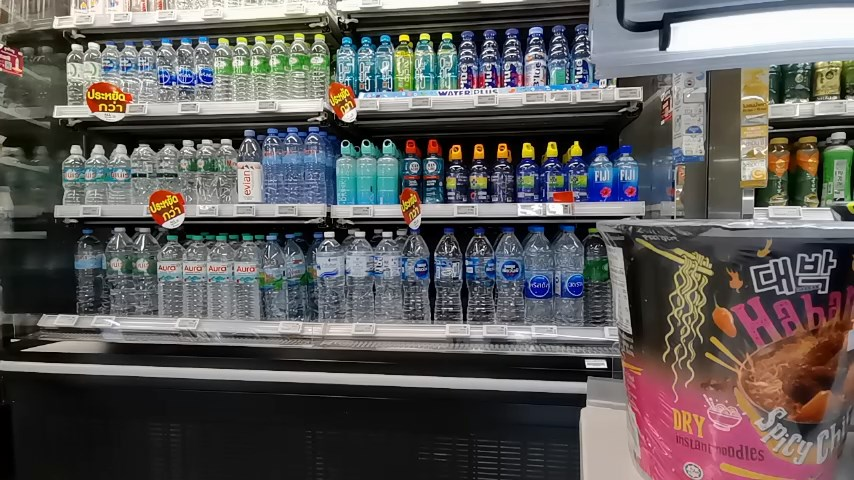1-1: (104, 227, 156, 316)
